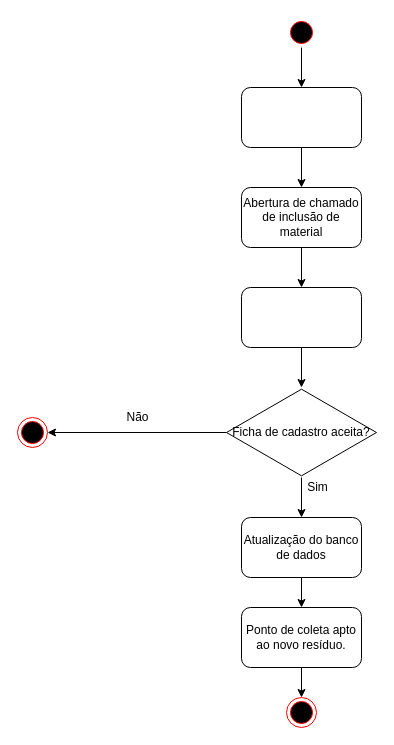
Image size: 394x745. Some labels were removed from this diagram. Here are the shapes that lost their labels. From the top down, the centre of each, then its label:
At point 301,117: "Ponto de coleta com cadastro efetivo".
At point 301,317: "Geração de ficha de ficha de cadastro de novo descartável".
